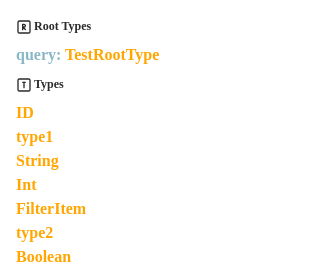
Test: Documentation › renders Documentation field view on field click
Click the link "TestRootType" at (112, 54), box x1=65 y1=46 x2=159 y2=63
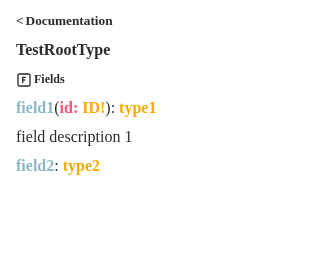
Click the link "field1" at (35, 108), box x1=16 y1=99 x2=54 y2=116
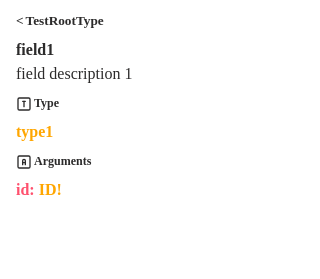
Expected: the heading "field1" is shown, x1=16 y1=41 x2=54 y2=58
Expected: the text with test id "field-description" reads "field description 1", x1=16 y1=65 x2=132 y2=82
Expected: the heading "Arguments" is shown, x1=34 y1=154 x2=91 y2=168
